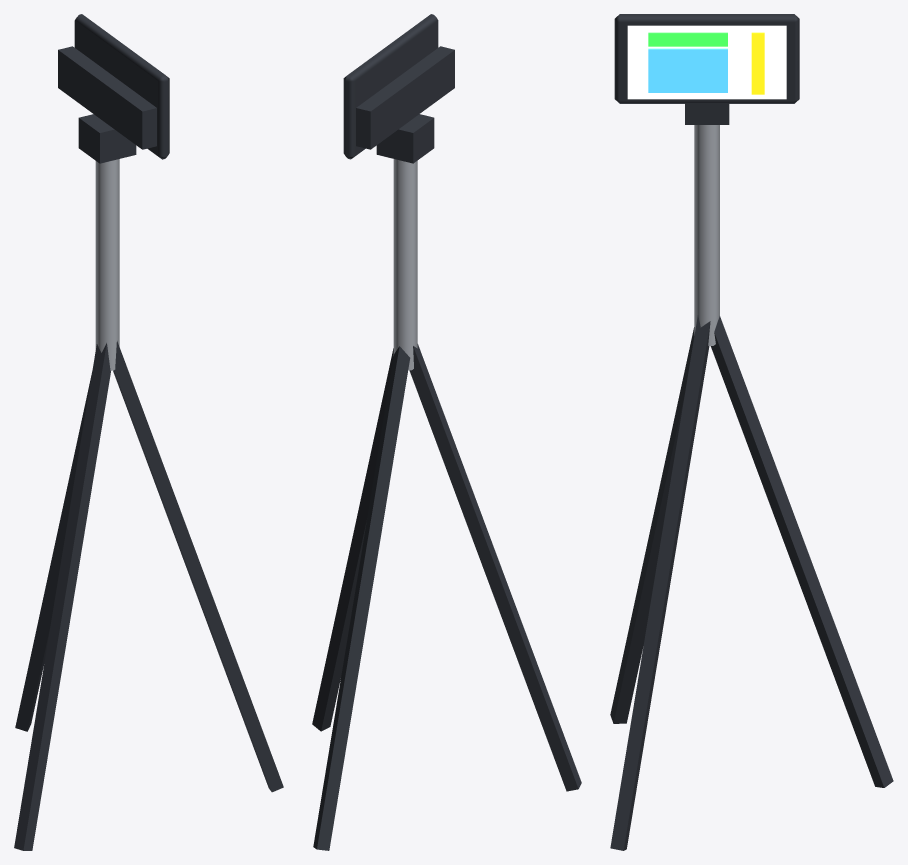
Rendered from station_buffer_ausstattung_1_1.glb.
The picture shows the model from 3 angles, left to right: view 1: azimuth 30°, elevation 25°; view 2: azimuth 150°, elevation 25°; view 3: azimuth 270°, elevation 25°; orthographic projection. The views are drawn at different scales.
Visible parts, largest first — view 1: station_buffer_ausstattung_1_1; view 2: station_buffer_ausstattung_1_1; view 3: station_buffer_ausstattung_1_1.
Boxes of the visible parts, x1,y1,x2,y2 form: station_buffer_ausstattung_1_1: (14, 14, 283, 850); station_buffer_ausstattung_1_1: (312, 14, 581, 850); station_buffer_ausstattung_1_1: (610, 14, 893, 850).
Bounding box in the file's own units: 0.365 × 0.9705 × 0.3197.
